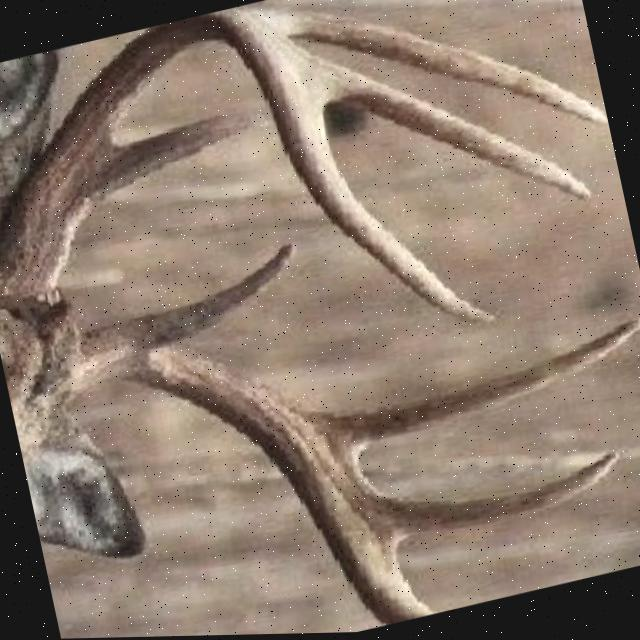L-F: (0, 8, 498, 326)
L-G1: (84, 110, 257, 213)
L-G2: (256, 8, 608, 126)
L-G3: (301, 49, 595, 205)
R-F: (69, 325, 439, 627)
R-G1: (113, 241, 296, 345)
R-G2: (323, 317, 640, 460)
R-G3: (380, 451, 621, 548)
